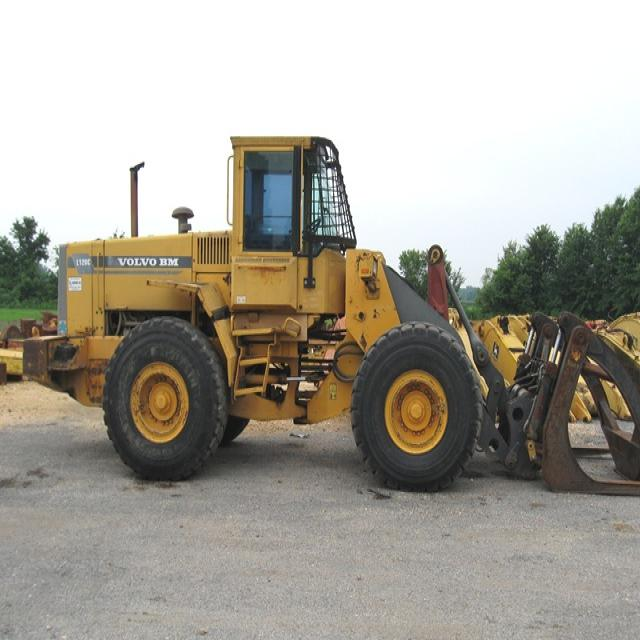buldozerpayloadergrader: (28, 127, 491, 498)
